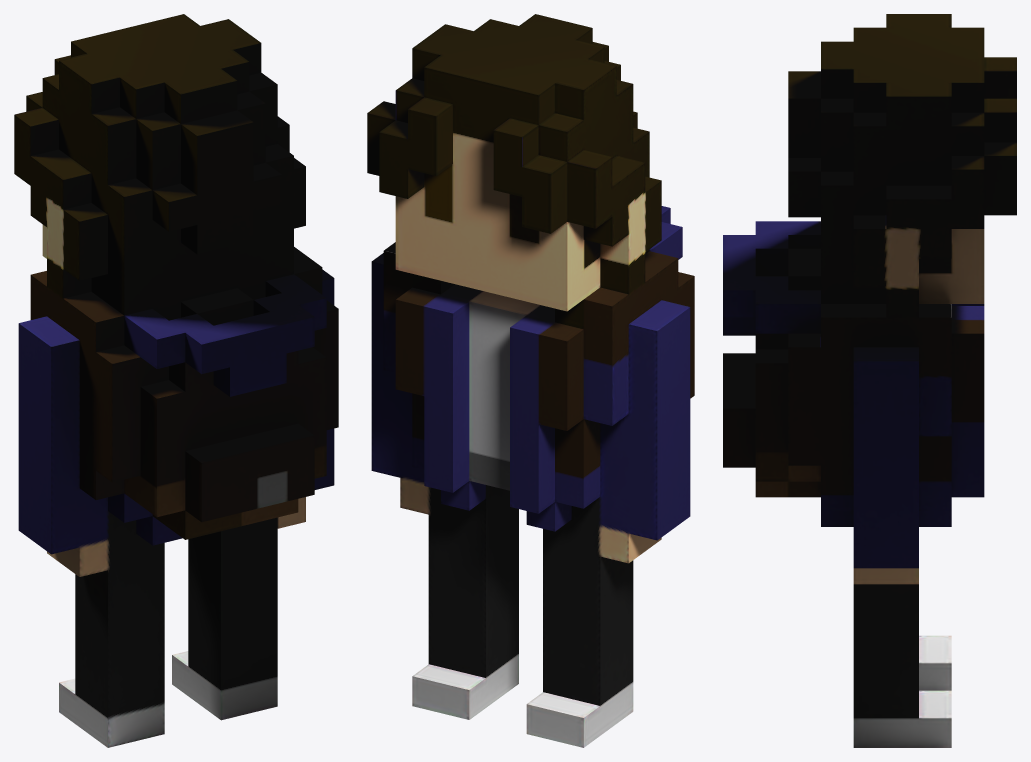
Rendered from bakestudent.glb.
The picture shows the model from 3 angles, left to right: view 1: azimuth 30°, elevation 25°; view 2: azimuth 150°, elevation 25°; view 3: azimuth 270°, elevation 25°; orthographic projection.
Parts seen in each view (by area): view 1: student; view 2: student; view 3: student.
Boxes of the visible parts, x1,y1,x2,y2 form: student: (14, 14, 338, 747); student: (367, 14, 694, 747); student: (723, 14, 1016, 747).
Size of what is drawn, in the model's own units: 1 by 2.2 by 0.9.
1 material, 1 textured.
